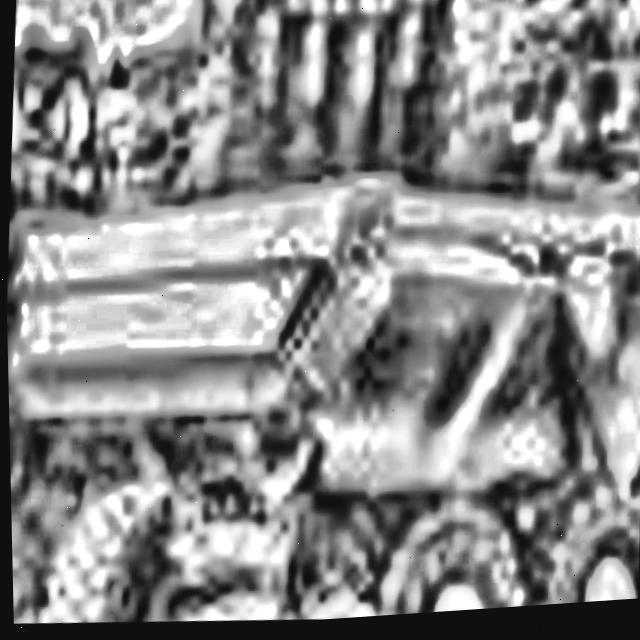dump_truck: (3, 110, 640, 640)
